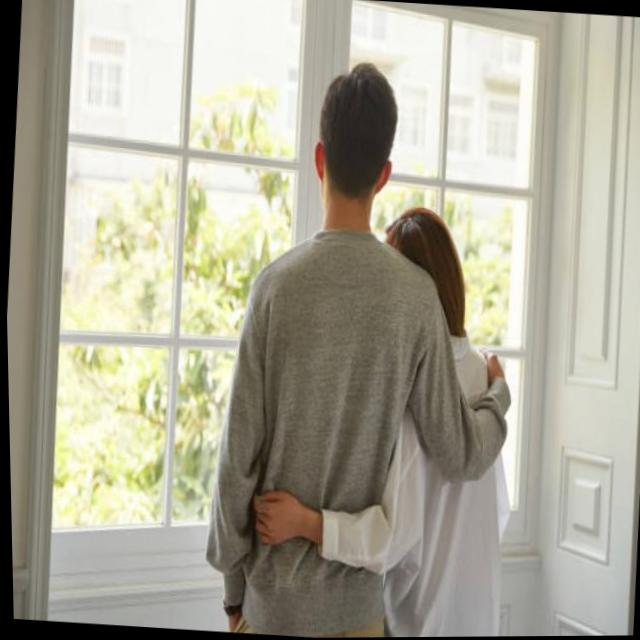no helmet: (297, 40, 403, 249)
